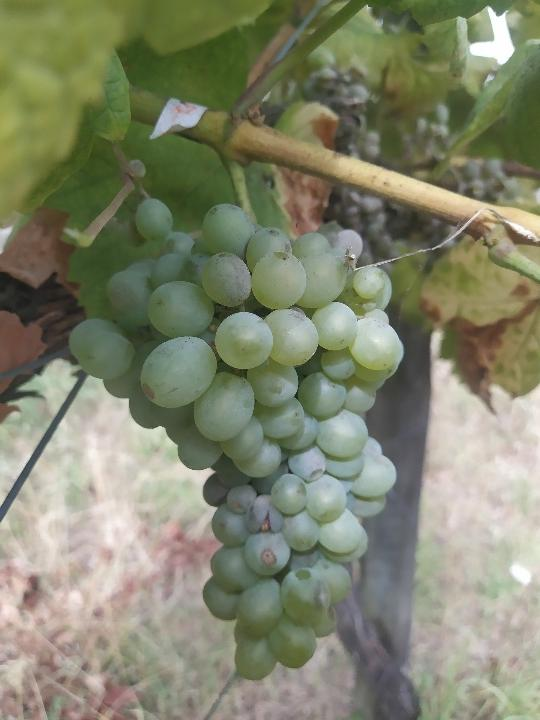grape: (61, 197, 408, 686)
